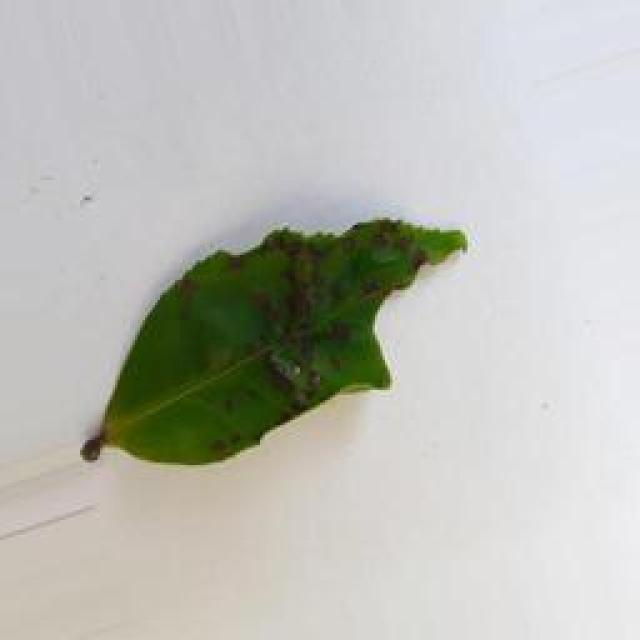Helopeltis: (83, 222, 474, 464)
